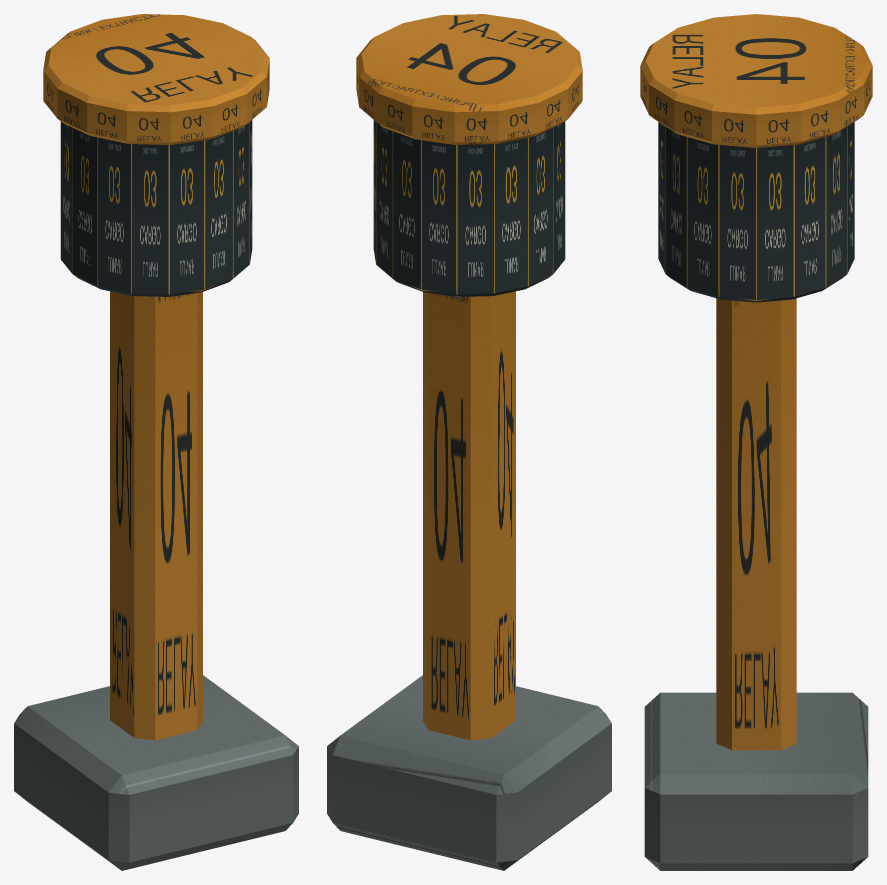
The model's file is beacon_LOD0.obj.
3 views of the same model, side by side, from view 1: azimuth 30°, elevation 25°; view 2: azimuth 150°, elevation 25°; view 3: azimuth 270°, elevation 25° (orthographic).
Visible parts, largest first — view 1: L02_beacon_LOD0; view 2: L02_beacon_LOD0; view 3: L02_beacon_LOD0.
Boxes of the visible parts, box(x1,y1,x2,y2) form: L02_beacon_LOD0: box(14, 14, 298, 870); L02_beacon_LOD0: box(327, 14, 611, 870); L02_beacon_LOD0: box(640, 14, 872, 870).
Bounding box in the file's own units: 0.52 × 1.9 × 0.52.
Materials: 1 (1 with a texture image).
